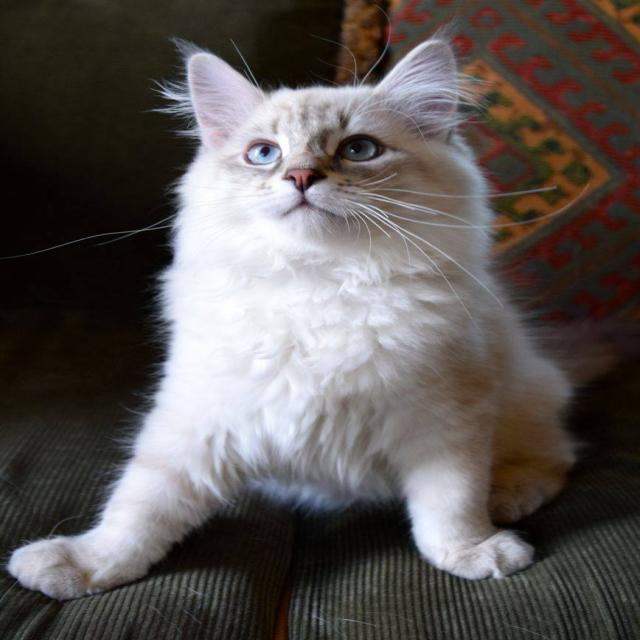Neva Masquerade: (0, 34, 590, 605)
